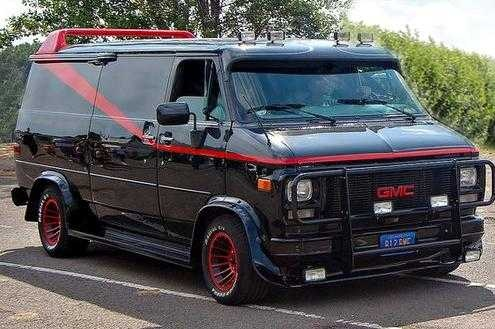van: (11, 28, 495, 306)
